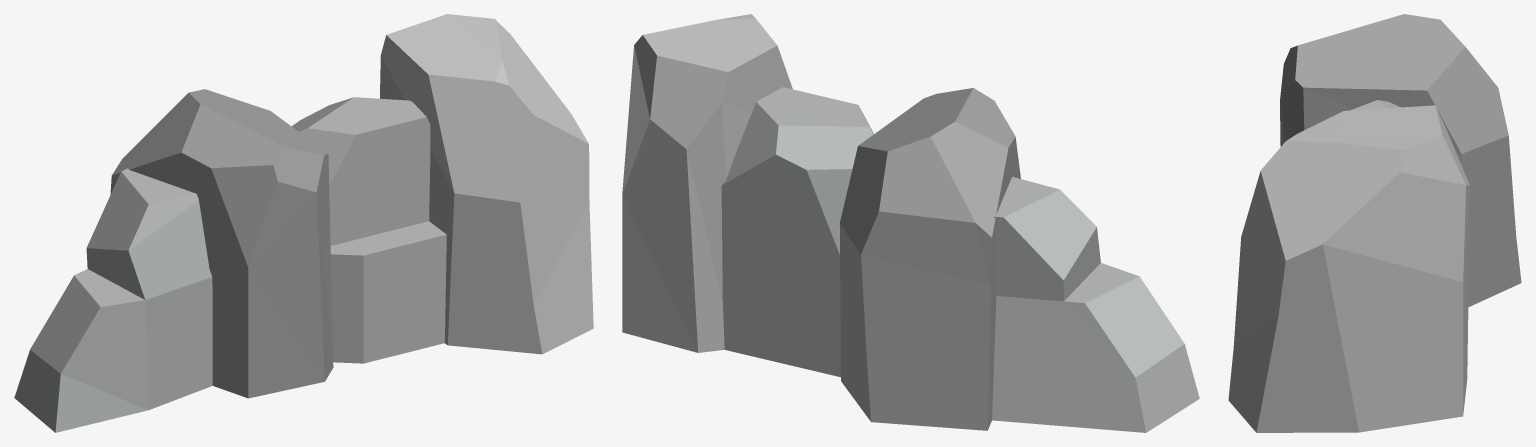
File: Rock_Wall_02.fbx
3 views of the same model, side by side, from view 1: azimuth 30°, elevation 25°; view 2: azimuth 150°, elevation 25°; view 3: azimuth 270°, elevation 25° (orthographic). The views are drawn at different scales.
Parts seen in each view (by area): view 1: Rock_Wall_02; view 2: Rock_Wall_02; view 3: Rock_Wall_02.
Part boxes in pixels (box(x1,y1,x2,y2)): Rock_Wall_02: box(14, 14, 593, 432); Rock_Wall_02: box(622, 14, 1199, 432); Rock_Wall_02: box(1228, 14, 1521, 432).
Size of the model in its own units: 601 by 289 by 285.
